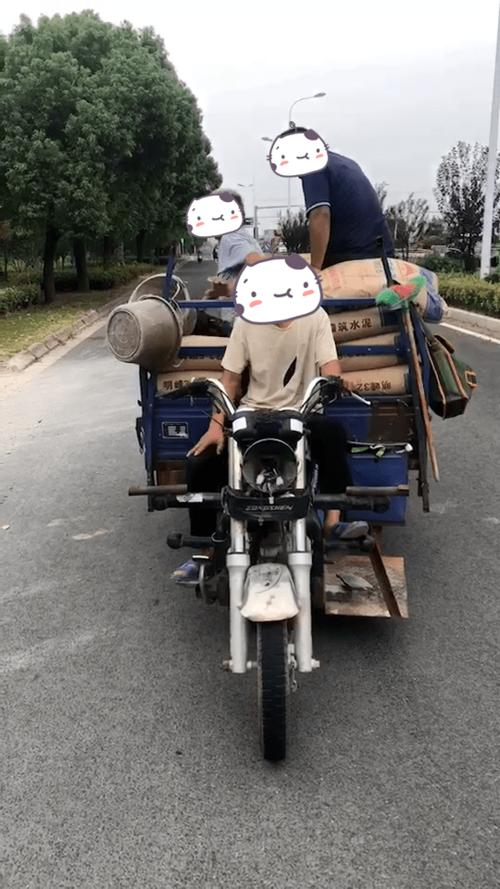driver: (214, 265, 352, 534)
overloading: (124, 135, 454, 769)
passenger: (259, 120, 422, 262), (170, 188, 267, 291)
